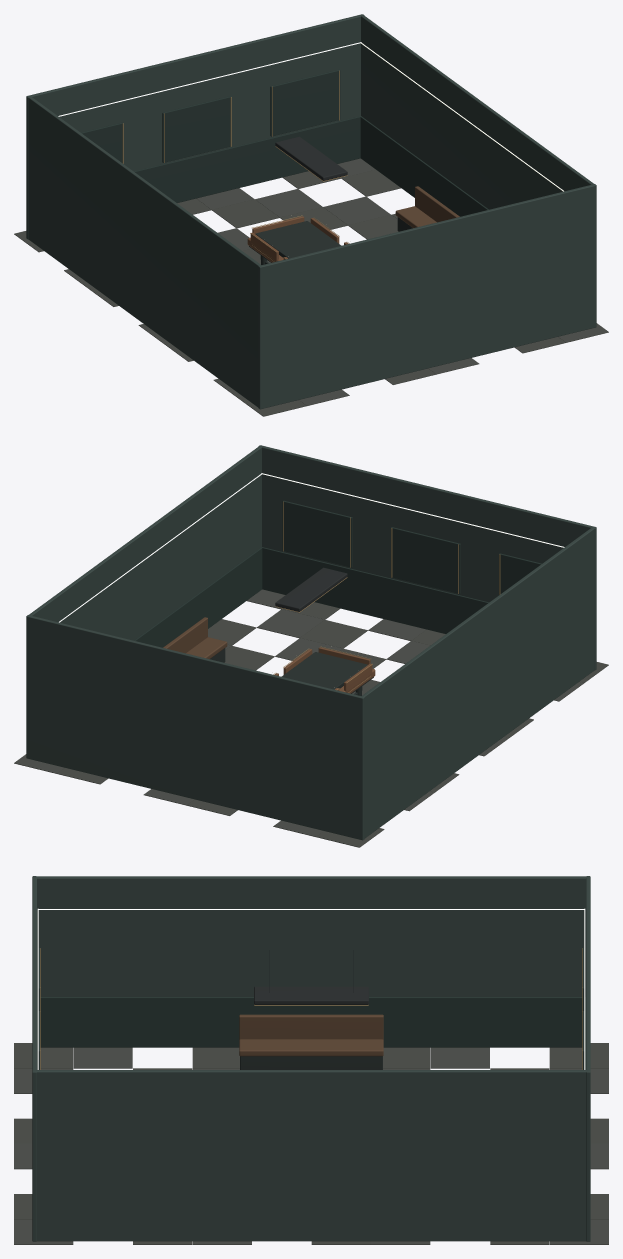
File: original-billiards-room-v1.glb
The picture shows the model from 3 angles, top to bottom: view 1: azimuth 30°, elevation 25°; view 2: azimuth 150°, elevation 25°; view 3: azimuth 270°, elevation 25°; orthographic projection. The views are drawn at different scales.
Parts seen in each view (by area): view 1: BJ8_Room_BJ8_MineralWall.002, BJ8_Room_BJ8_WallPanel.002, BJ8_Room_BJ8_Floor_1.002, BJ8_Room_BJ8_Floor_2.002, BJ8_TableShell_BJ8_Ebony.002, BJ8_Pendant_BJ8_BlackMetal.002, BJ8_Room_BJ8_SeatLeather.002, BJ8_TableShell_BJ8_Walnut.002, BJ8_Room_BJ8_WarmDiffuser.002; view 2: BJ8_Room_BJ8_MineralWall.002, BJ8_Room_BJ8_WallPanel.002, BJ8_Room_BJ8_Floor_1.002, BJ8_Room_BJ8_Floor_2.002, BJ8_TableShell_BJ8_Ebony.002, BJ8_Pendant_BJ8_BlackMetal.002, BJ8_Room_BJ8_SeatLeather.002, BJ8_TableShell_BJ8_Walnut.002, BJ8_Room_BJ8_WarmDiffuser.002; view 3: BJ8_Room_BJ8_MineralWall.002, BJ8_Room_BJ8_WallPanel.002, BJ8_Room_BJ8_Floor_1.002, BJ8_Room_BJ8_Floor_2.002, BJ8_Room_BJ8_SeatLeather.002, BJ8_Pendant_BJ8_BlackMetal.002, BJ8_Room_BJ8_Ebony.002, BJ8_Room_BJ8_WarmDiffuser.002.
Boxes of the visible parts, x1,y1,x2,y2 form: BJ8_Room_BJ8_MineralWall.002: (26, 14, 596, 409); BJ8_Room_BJ8_WallPanel.002: (81, 69, 488, 216); BJ8_Room_BJ8_Floor_1.002: (14, 170, 565, 416); BJ8_Room_BJ8_Floor_2.002: (64, 158, 608, 406); BJ8_TableShell_BJ8_Ebony.002: (249, 221, 341, 264); BJ8_Pendant_BJ8_BlackMetal.002: (275, 136, 347, 180); BJ8_Room_BJ8_SeatLeather.002: (395, 186, 459, 228); BJ8_TableShell_BJ8_Walnut.002: (247, 216, 348, 262); BJ8_Room_BJ8_WarmDiffuser.002: (58, 42, 563, 191); BJ8_Room_BJ8_MineralWall.002: (26, 445, 596, 840); BJ8_Room_BJ8_WallPanel.002: (134, 500, 541, 647); BJ8_Room_BJ8_Floor_1.002: (57, 602, 608, 847); BJ8_Room_BJ8_Floor_2.002: (14, 589, 583, 837); BJ8_TableShell_BJ8_Ebony.002: (281, 652, 373, 695); BJ8_Pendant_BJ8_BlackMetal.002: (275, 567, 347, 611); BJ8_Room_BJ8_SeatLeather.002: (163, 617, 227, 659); BJ8_TableShell_BJ8_Walnut.002: (274, 647, 375, 693); BJ8_Room_BJ8_WarmDiffuser.002: (59, 473, 564, 622); BJ8_Room_BJ8_MineralWall.002: (32, 876, 590, 1241); BJ8_Room_BJ8_WallPanel.002: (37, 948, 585, 1069); BJ8_Room_BJ8_Floor_1.002: (14, 1043, 608, 1244); BJ8_Room_BJ8_Floor_2.002: (14, 1047, 608, 1244); BJ8_Room_BJ8_SeatLeather.002: (239, 1014, 383, 1056); BJ8_Pendant_BJ8_BlackMetal.002: (254, 950, 368, 1004); BJ8_Room_BJ8_Ebony.002: (240, 1056, 382, 1069); BJ8_Room_BJ8_WarmDiffuser.002: (37, 908, 585, 1069).
Size of what is drawn, in the model's own units: 8 by 3.6 by 10.
